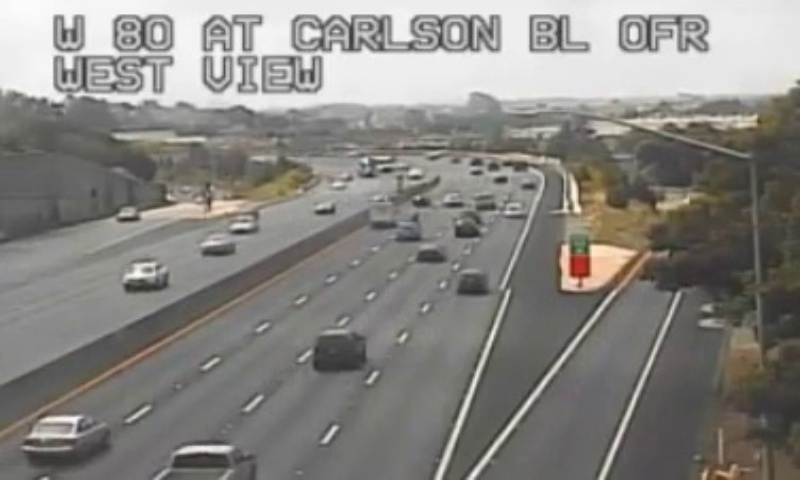car: (21, 415, 108, 458), (312, 330, 365, 366), (457, 268, 487, 294), (414, 243, 442, 263)
